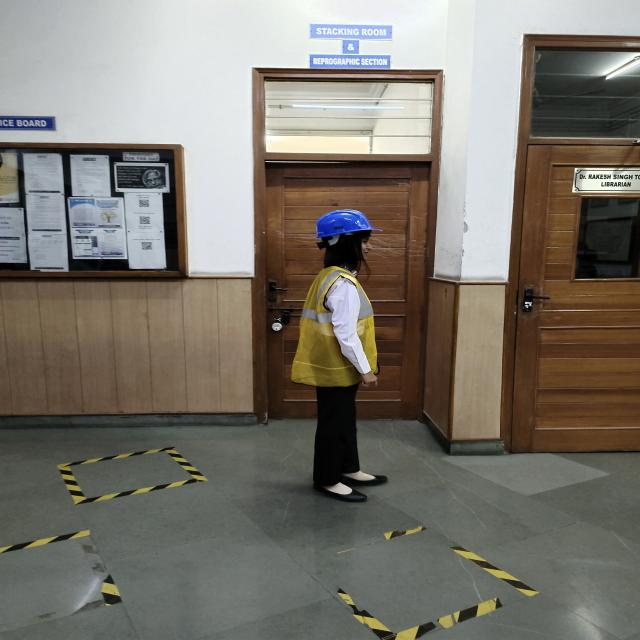safe: (290, 209, 380, 501)
